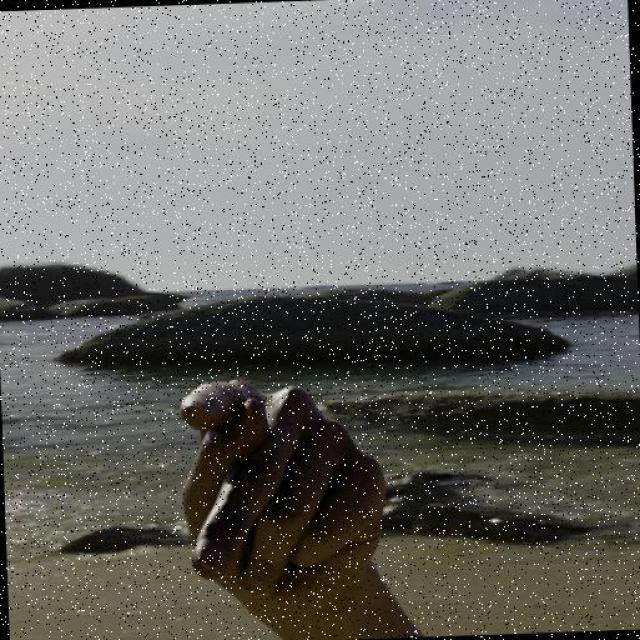P: (158, 371, 400, 640)
